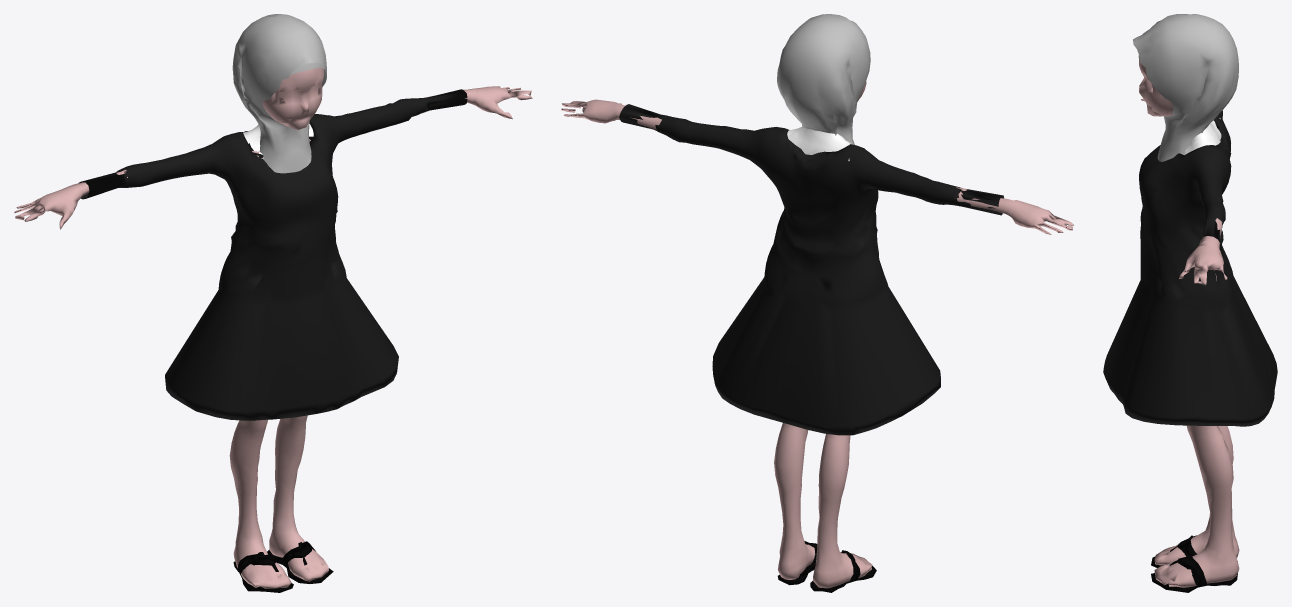
File: muslim-girl-lite.glb
3 renders of one model, left to right at view 1: azimuth 30°, elevation 25°; view 2: azimuth 150°, elevation 25°; view 3: azimuth 270°, elevation 25°, orthographic.
Parts seen in each view (by area): view 1: Object_4, Object_2, Object_6, Object_3; view 2: Object_4, Object_2, Object_6, Object_5, Object_3; view 3: Object_4, Object_6, Object_2, Object_3, Object_5.
Boxes of the visible parts, x1,y1,x2,y2 form: Object_4: (78, 89, 467, 420); Object_2: (14, 67, 532, 588); Object_6: (232, 14, 326, 173); Object_3: (233, 541, 333, 592); Object_4: (619, 104, 1004, 435); Object_2: (561, 81, 1073, 588); Object_6: (777, 14, 870, 144); Object_5: (787, 127, 851, 161); Object_3: (777, 541, 876, 592); Object_4: (1103, 110, 1277, 426); Object_6: (1133, 14, 1238, 161); Object_2: (1138, 55, 1239, 587); Object_3: (1151, 535, 1237, 592); Object_5: (1185, 118, 1221, 154).
Size of the model in its own units: 1.53 by 1.58 by 0.4489.
